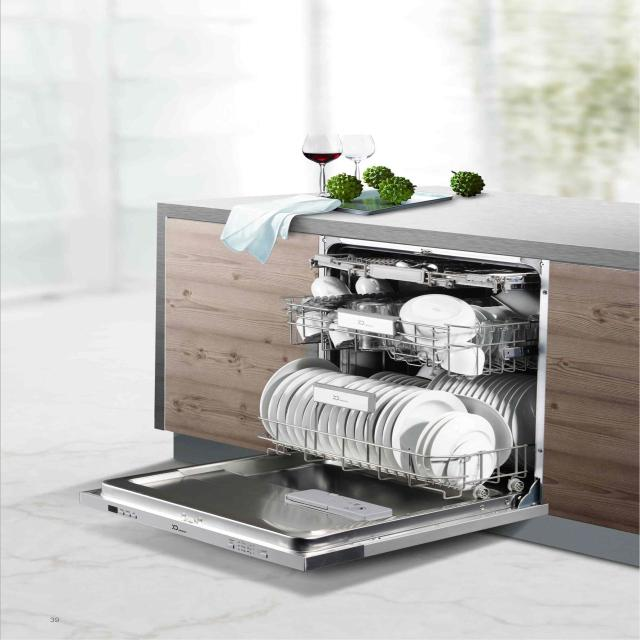dishwasher: (84, 228, 560, 580)
